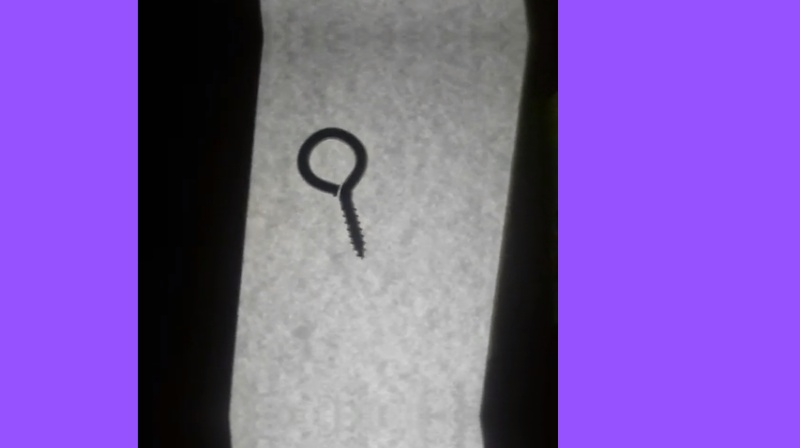O001: (292, 124, 367, 261)
